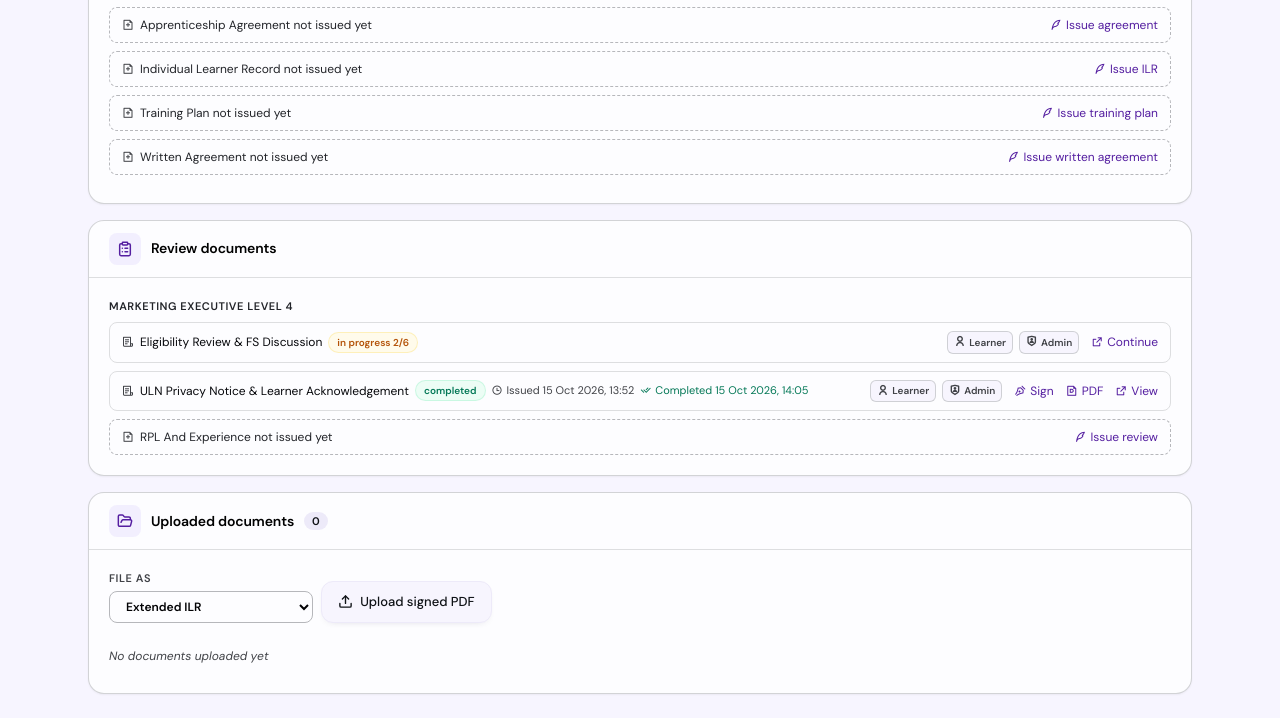
it: the enrolment board › issues an enrolment review from Review documents
(page scrolled)
Expected: the text "in progress 2/6" is shown, [328,332,418,353]
Expected: the text "RPL And Experience not issued yet" is shown, [140,428,333,446]
What coordinates should you click on to do the following:
click the button "Issue review"
I would click on:
 (1116, 437)
Its box is [1074,428,1158,446].
(page scrolled)
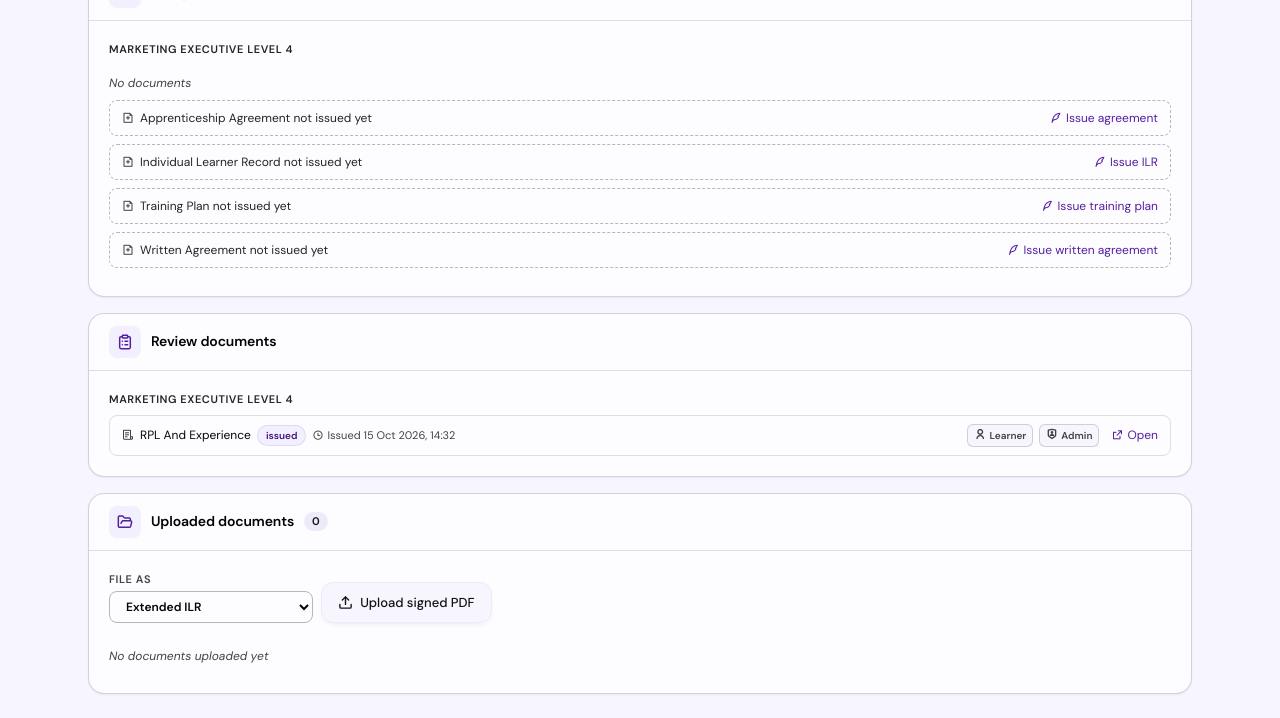
Expected: the text "issued" is shown, [257,425,306,446]
Result: the text "Issued 15 Oct 2026, 14:32" is shown at [312,426,456,444]
Result: the text "RPL And Experience not issued yet" is gone
